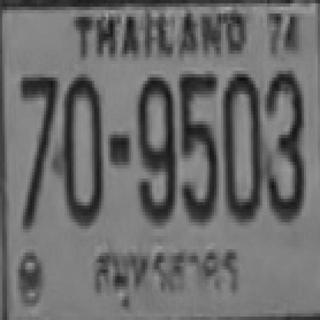N00: (60, 74, 101, 222), (221, 71, 260, 219)
N03: (264, 69, 303, 217)
N05: (177, 71, 216, 219)
N07: (18, 74, 55, 222), (18, 74, 55, 175)
N09: (136, 74, 175, 219)
P58: (84, 241, 245, 314)
